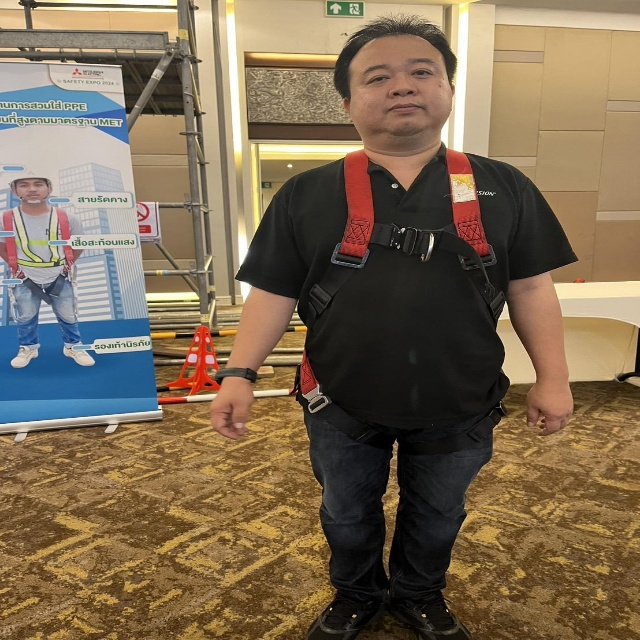Arnes_seguridad: (299, 139, 510, 424)
